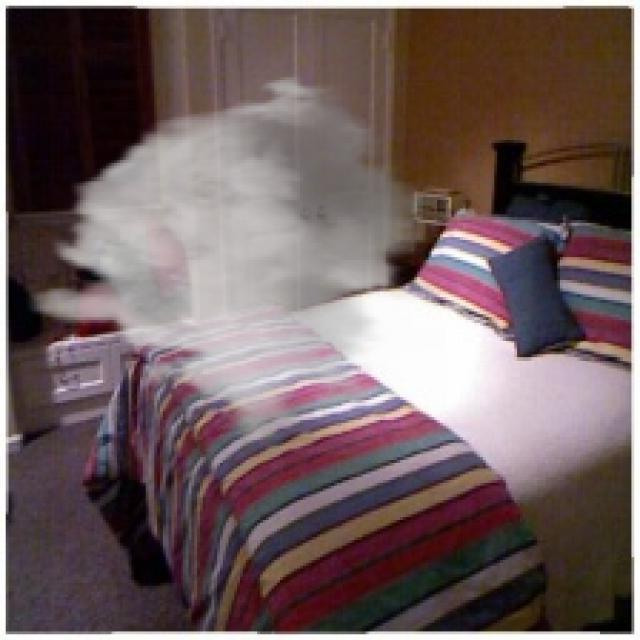Smoke: (23, 71, 446, 443)
